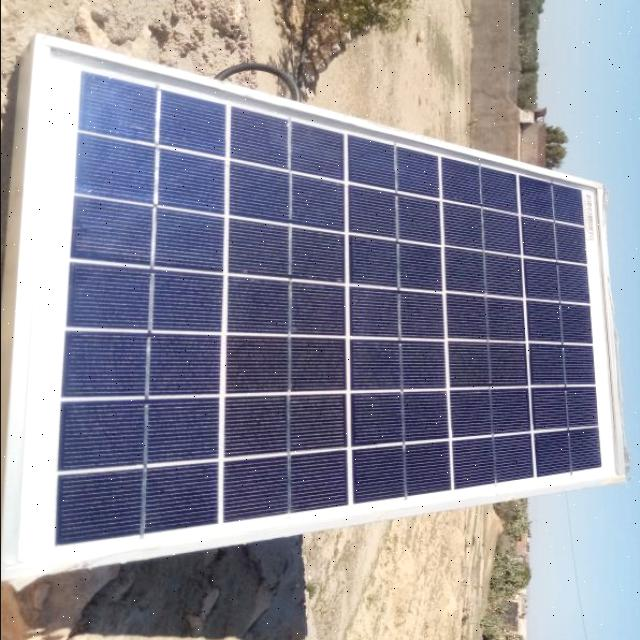Normal Solar Panel: (6, 39, 622, 581)
